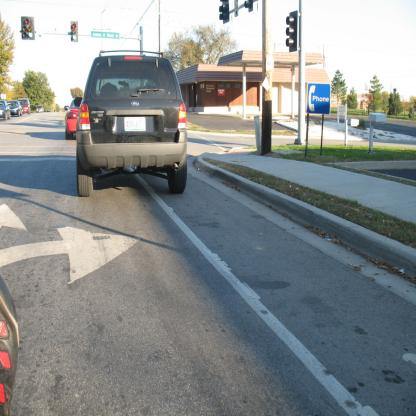Car: (75, 49, 189, 196), (1, 99, 50, 122), (65, 96, 84, 140)
